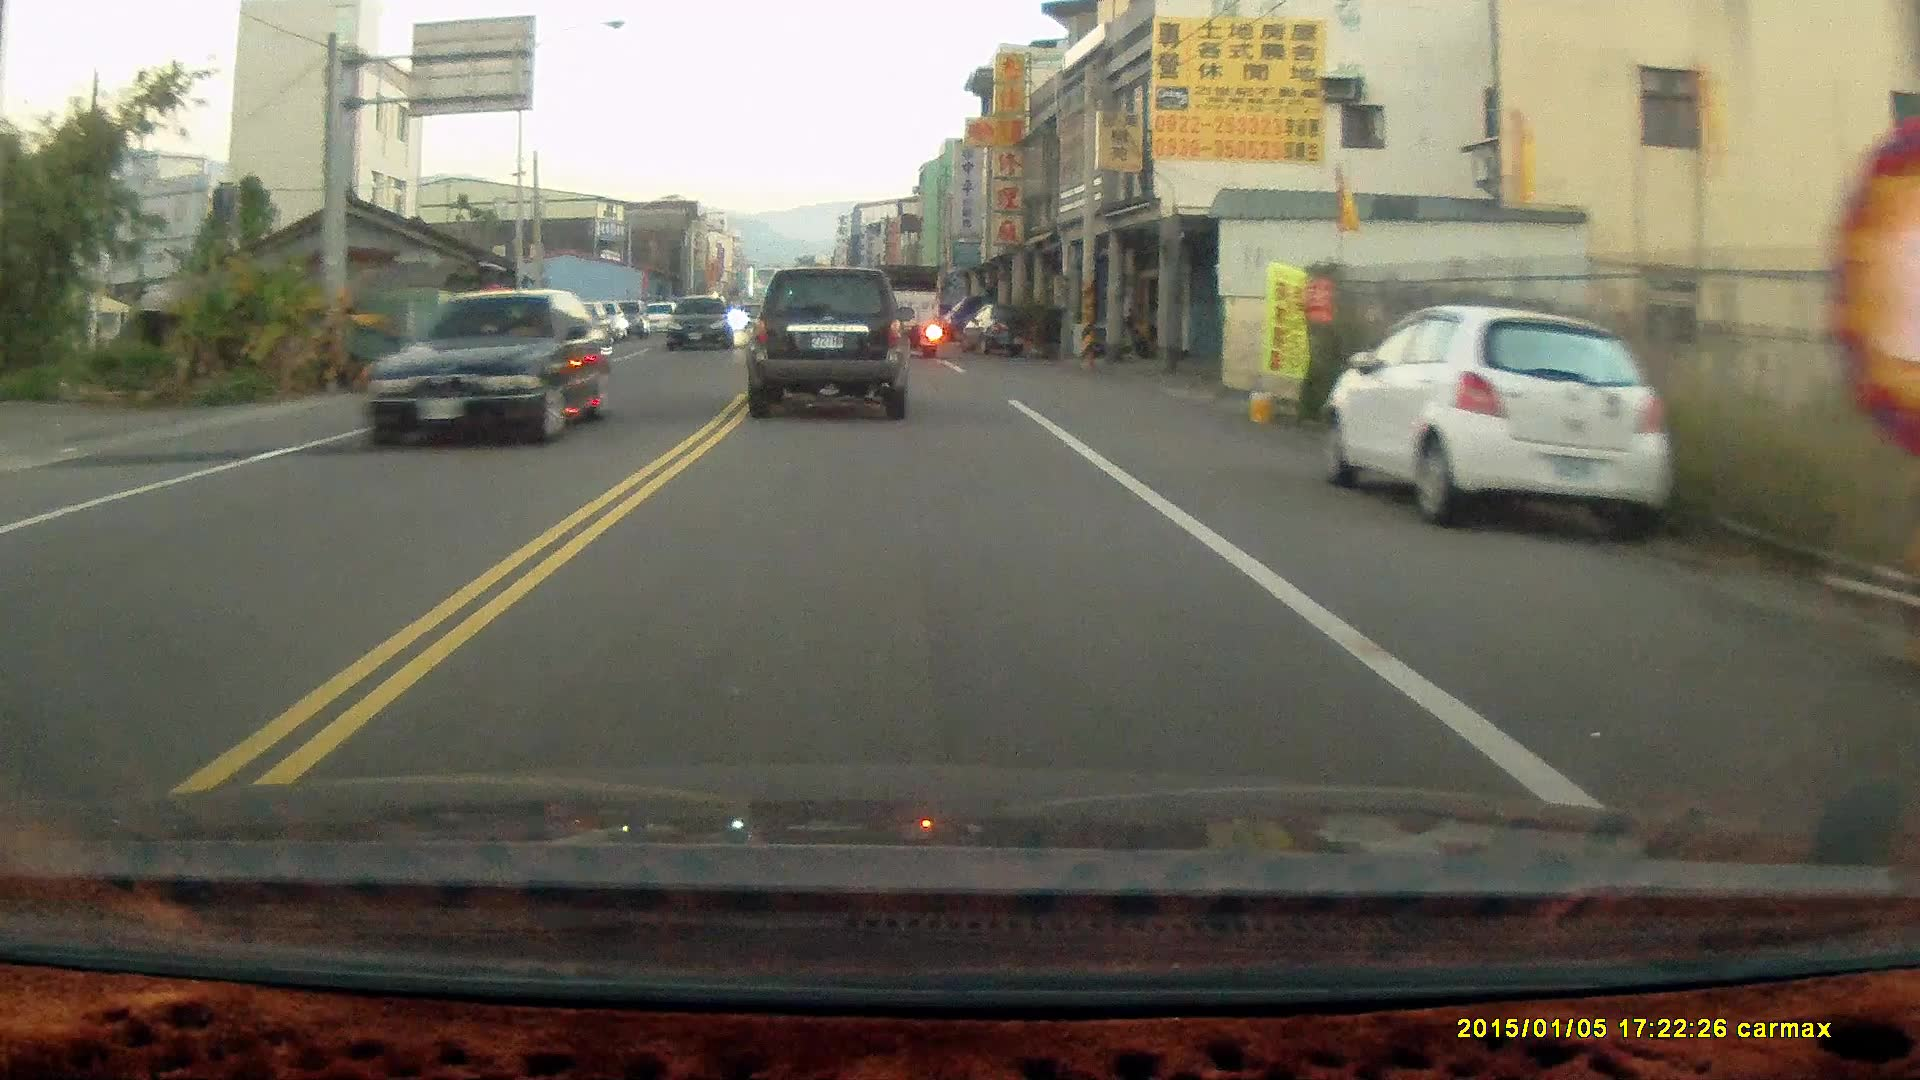vehicle: (1327, 303, 1665, 535), (361, 284, 617, 448), (745, 266, 918, 422), (870, 261, 947, 359), (663, 294, 738, 351)
